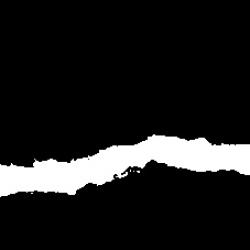crack: (3, 133, 248, 197)
